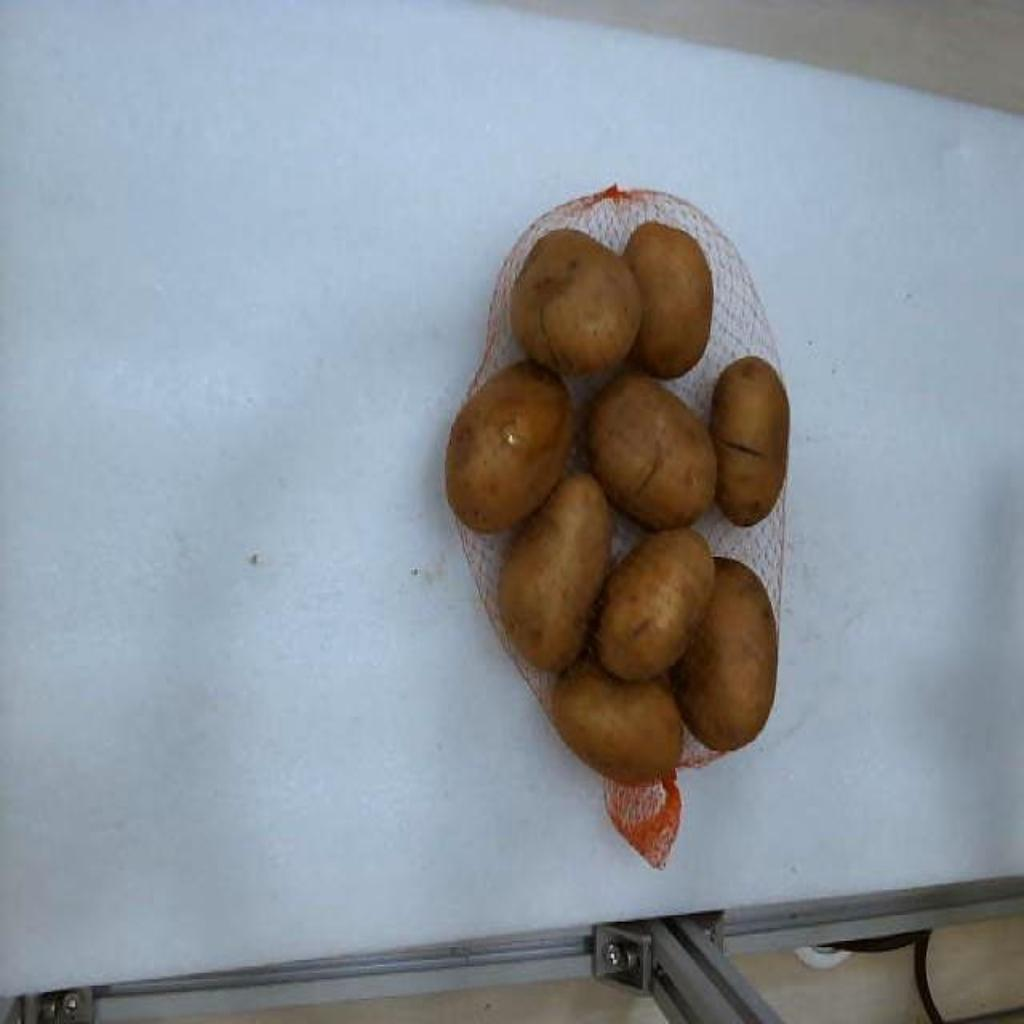potato: (498, 475, 612, 671), (446, 363, 570, 532), (672, 557, 778, 751), (590, 373, 714, 529), (510, 232, 642, 376), (596, 528, 714, 680), (552, 656, 682, 785), (624, 221, 712, 377), (710, 357, 790, 525)
